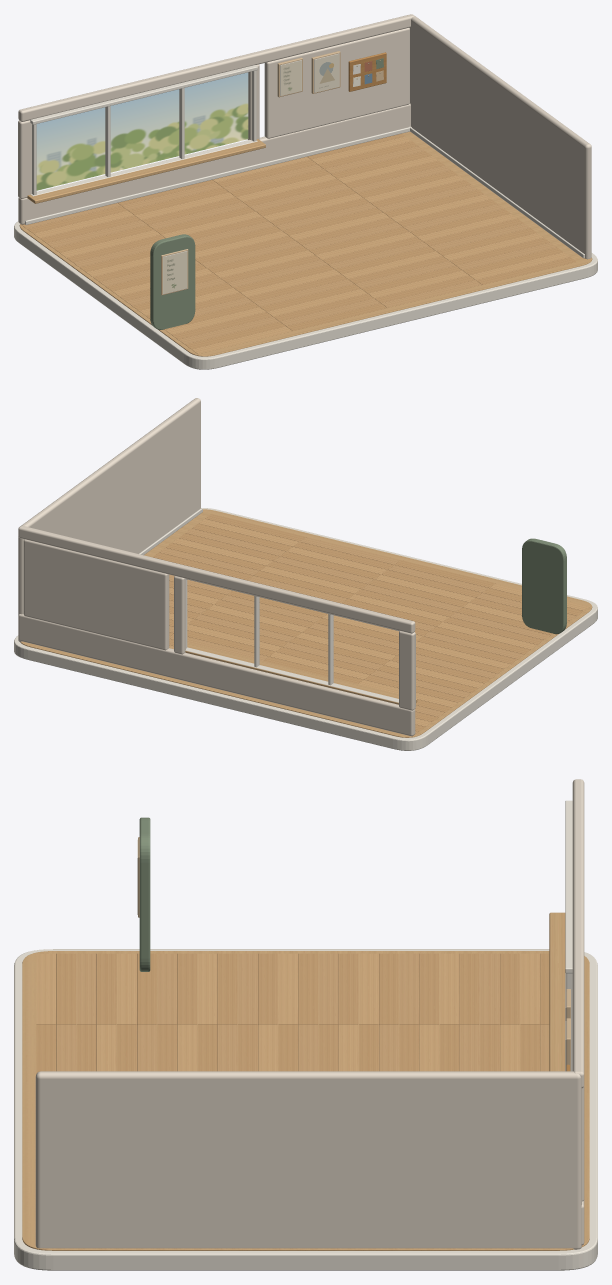
The model's file is room.glb.
3 renders of one model, top to bottom at view 1: azimuth 30°, elevation 25°; view 2: azimuth 150°, elevation 25°; view 3: azimuth 270°, elevation 25°, orthographic. The views are drawn at different scales.
Visible parts, largest first — view 1: Room_oak (×7), Room_wall, Room_cream, Room_window, Room_sage, Room_poster-type, Room_poster-art; view 2: Room_oak (×5), Room_wall, Room_cream, Room_sage; view 3: Room_wall, Room_oak (×5), Room_cream, Room_sage.
Boxes of the visible parts, x1,y1,x2,y2 form: Room_oak (×7): [19, 51, 592, 356]; Room_wall: [18, 14, 591, 259]; Room_cream: [14, 53, 597, 369]; Room_window: [36, 72, 248, 190]; Room_sage: [150, 58, 383, 329]; Room_poster-type: [163, 60, 301, 293]; Room_poster-art: [314, 54, 339, 92]; Room_oak (×5): [20, 509, 592, 737]; Room_wall: [18, 398, 415, 736]; Room_cream: [14, 508, 597, 750]; Room_sage: [522, 538, 566, 634]; Room_wall: [35, 779, 584, 1249]; Room_oak (×5): [22, 912, 589, 1250]; Room_cream: [14, 800, 597, 1270]; Room_sage: [139, 817, 150, 971].
Size of the model in its own units: 12.52 by 3.66 by 10.05.
Materials: 17 (9 with a texture image).
